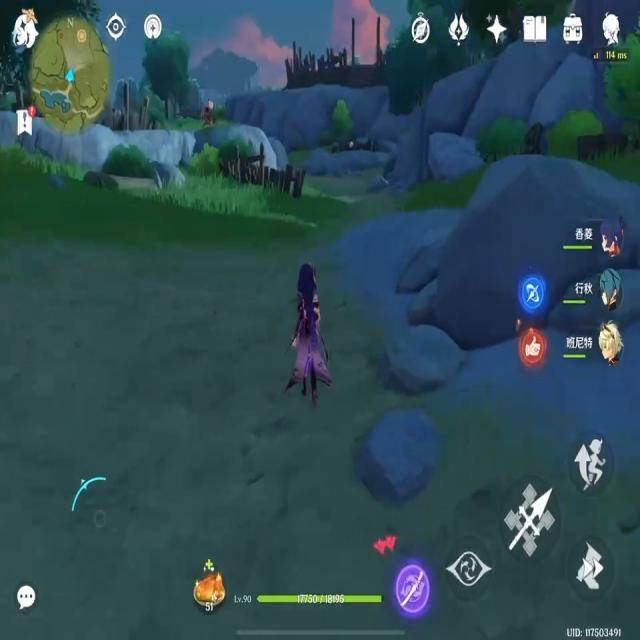genshin-hilichurls: (201, 98, 216, 119)
